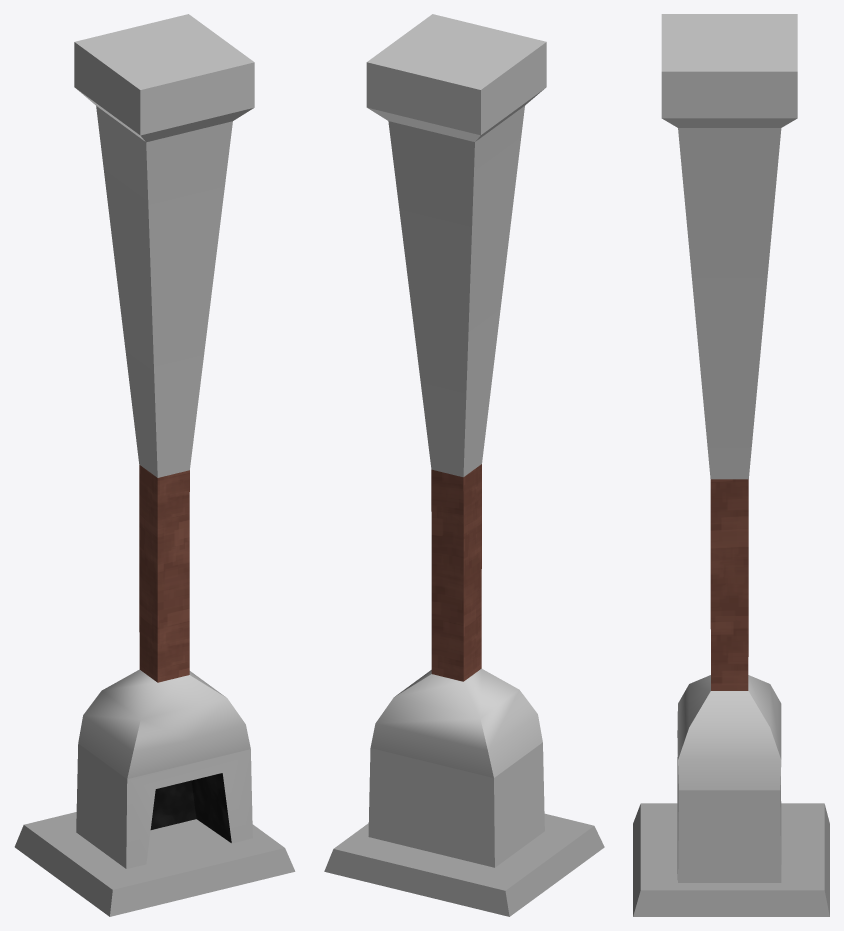
The model's file is Fireplace_Colider.fbx.
3 renders of one model, left to right at view 1: azimuth 30°, elevation 25°; view 2: azimuth 150°, elevation 25°; view 3: azimuth 270°, elevation 25°, orthographic. The views are drawn at different scales.
Visible parts, largest first — view 1: Fireplace_Colider; view 2: Fireplace_Colider; view 3: Fireplace_Colider.
Part boxes in pixels (left/top/right/bottom): Fireplace_Colider: left=14, top=14, right=295, bottom=916; Fireplace_Colider: left=324, top=14, right=604, bottom=916; Fireplace_Colider: left=633, top=14, right=829, bottom=916.
Size of the model in its own units: 179 by 742 by 159.
